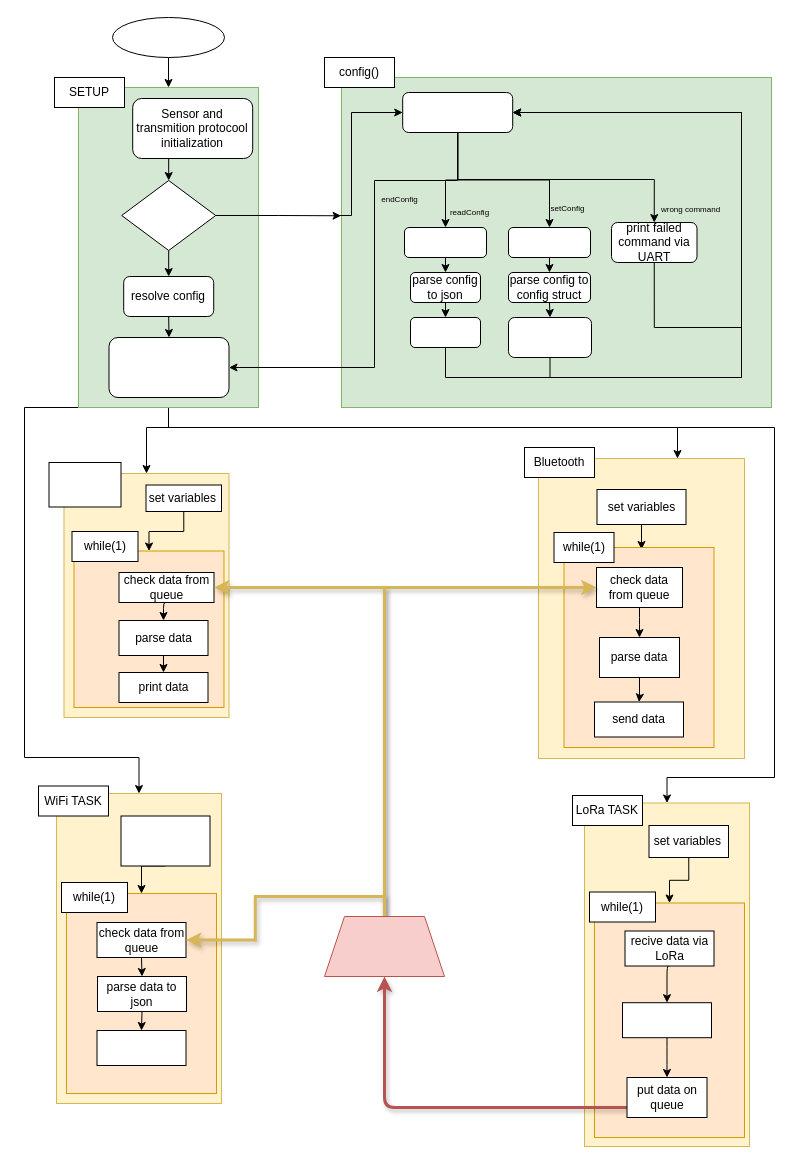
The diagram is 800 pixels wide and 1164 high, and some of its shapes have lost their labels. The centre of each missing label's shape, as x and y in pixels:
check recived data: the point at 667,1020
configInterupt: the point at 168,215
Queue LoRa: the point at 384,946
read command from UART: the point at 457,112
read config from memory: the point at 445,242
read config from UART: the point at 549,242
RTOS initialization (Task and Queue init): the point at 168,367
save config struct in memory: the point at 550,337
send data by POST request: the point at 141,1048
send json via UART: the point at 445,332
set variables and data header: the point at 165,840
START: the point at 168,37
UART TASK: the point at 84,484
